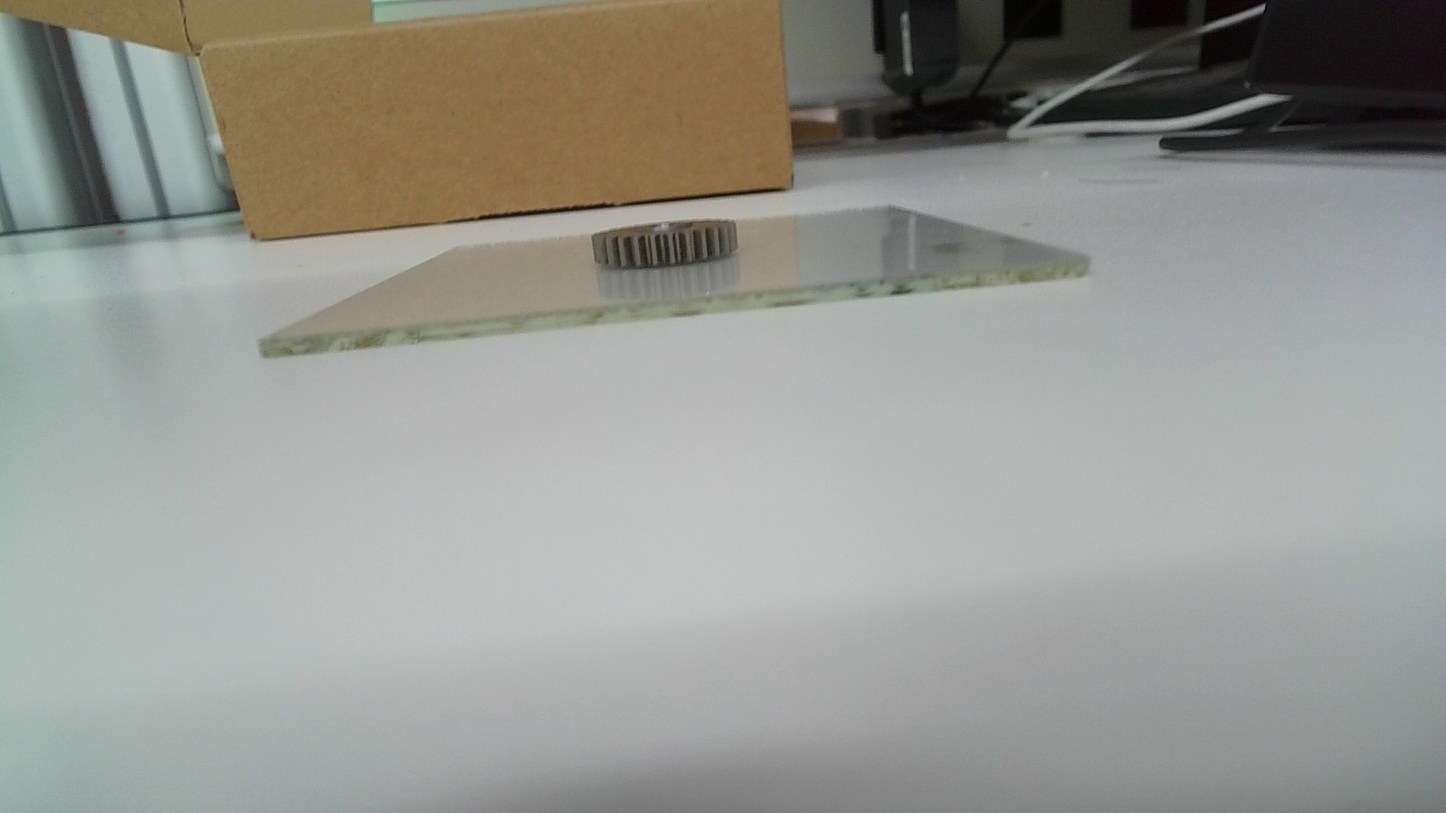gear: (587, 220, 747, 269)
